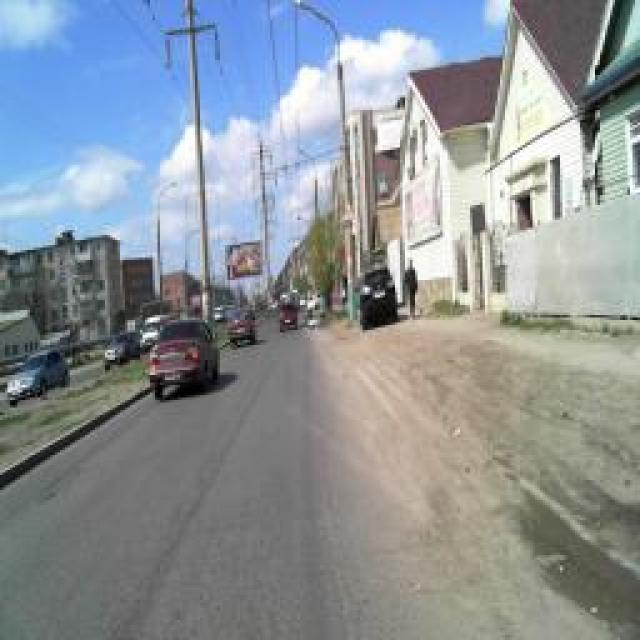sign: (342, 198, 356, 222)
